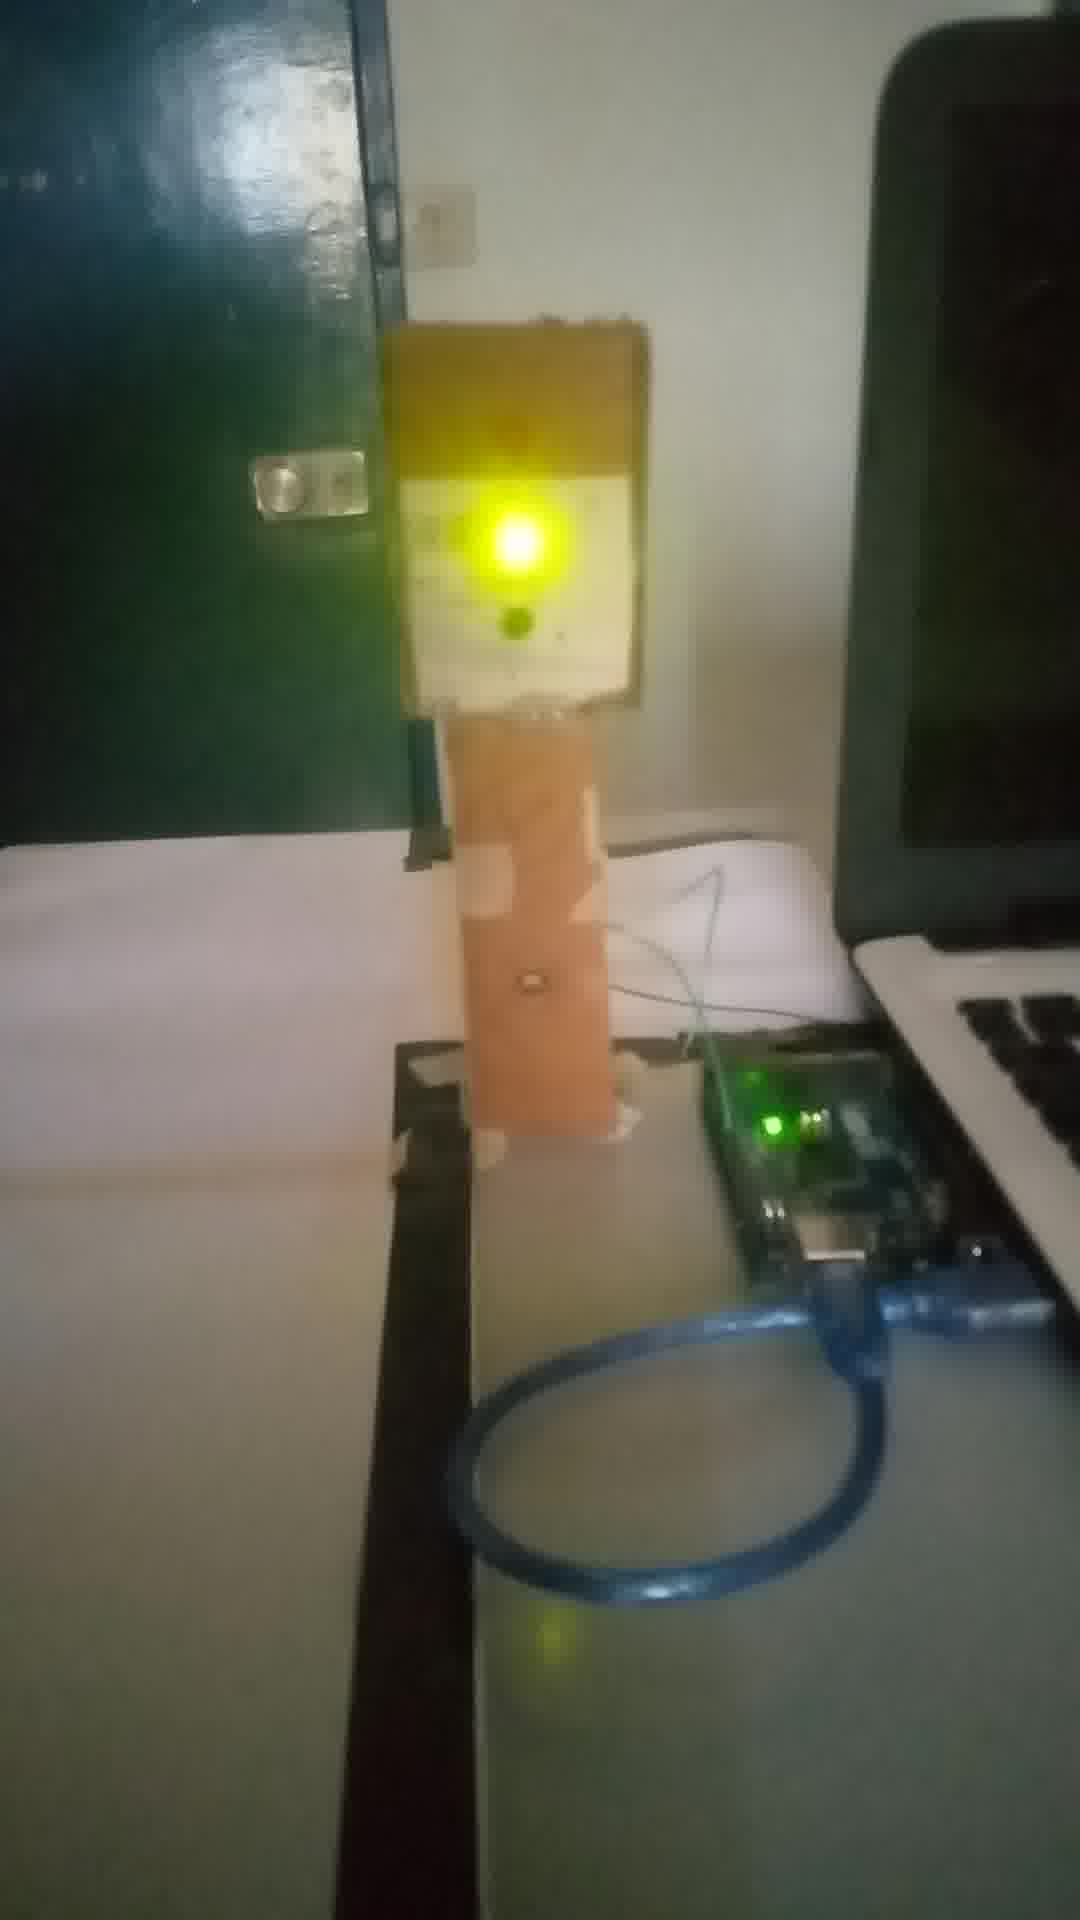yellow: (393, 334, 638, 713)
